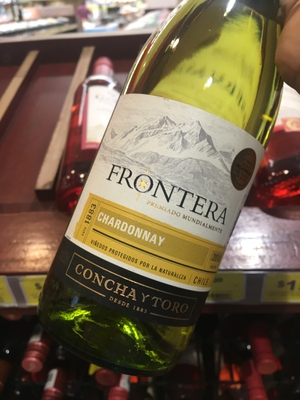frontera chardonnay: (61, 12, 269, 369)
